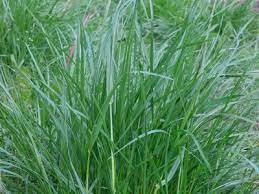grass: (1, 3, 259, 194)
